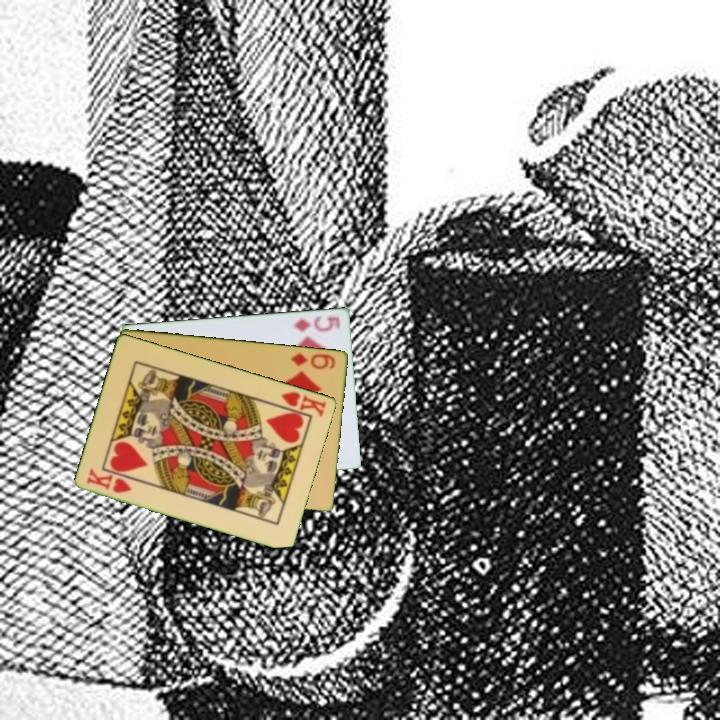5d: (291, 312, 343, 334)
6d: (288, 349, 339, 372)
Kh: (271, 388, 329, 419), (83, 465, 135, 496)
